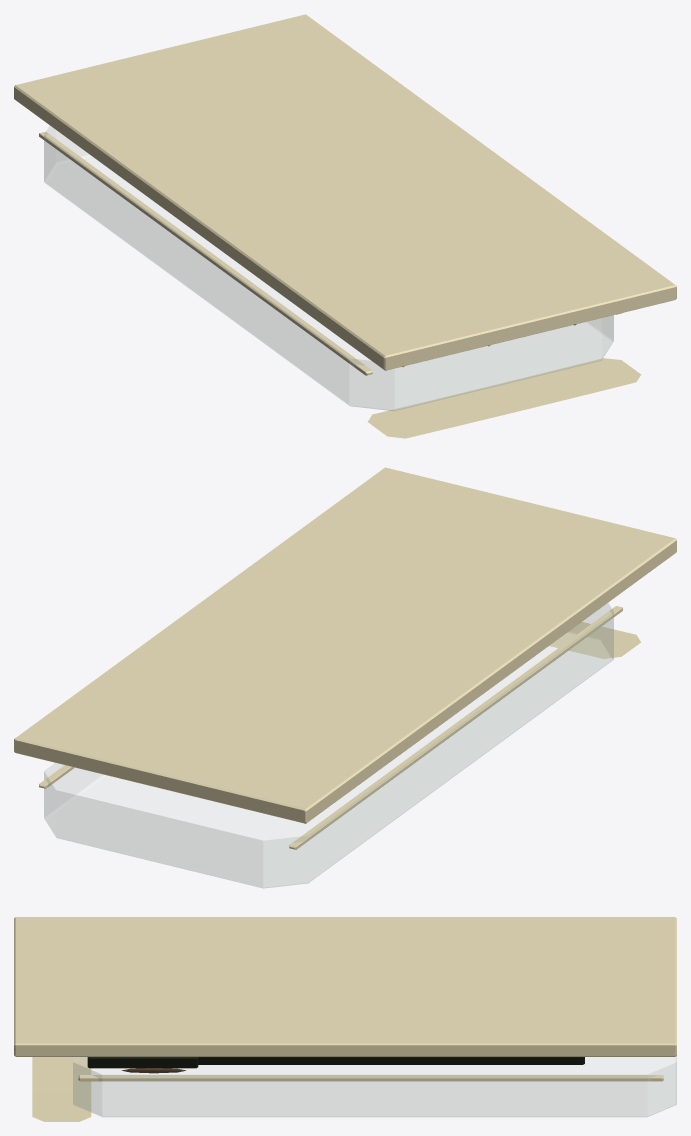
The model's file is pens.glb.
3 renders of one model, top to bottom at view 1: azimuth 30°, elevation 25°; view 2: azimuth 150°, elevation 25°; view 3: azimuth 270°, elevation 25°, orthographic. The views are drawn at different scales.
Visible parts, largest first — view 1: pens; view 2: pens; view 3: pens.
Boxes of the visible parts, bbox=[...] form: pens: bbox=[14, 14, 676, 438]; pens: bbox=[14, 467, 676, 888]; pens: bbox=[14, 917, 676, 1121].
Size of the model in its own units: 0.082 by 0.026 by 0.18.
